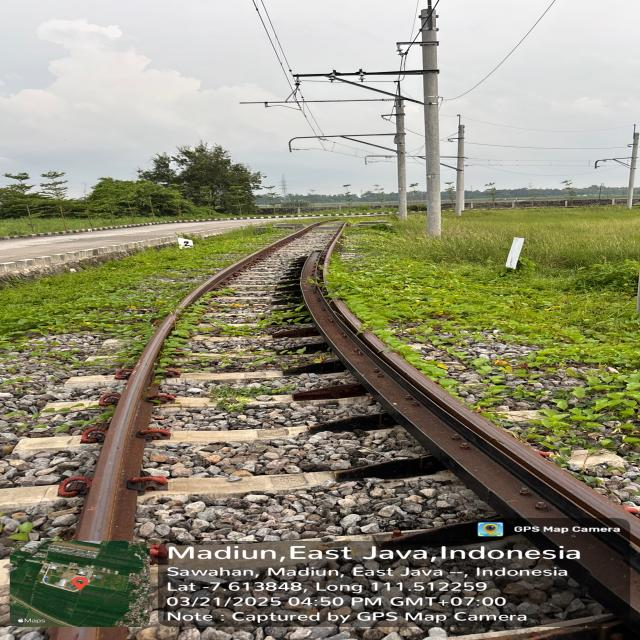rail-detection: (301, 260, 640, 634), (78, 221, 324, 539), (75, 311, 177, 541), (181, 241, 281, 306), (322, 223, 347, 277), (58, 627, 122, 640)
